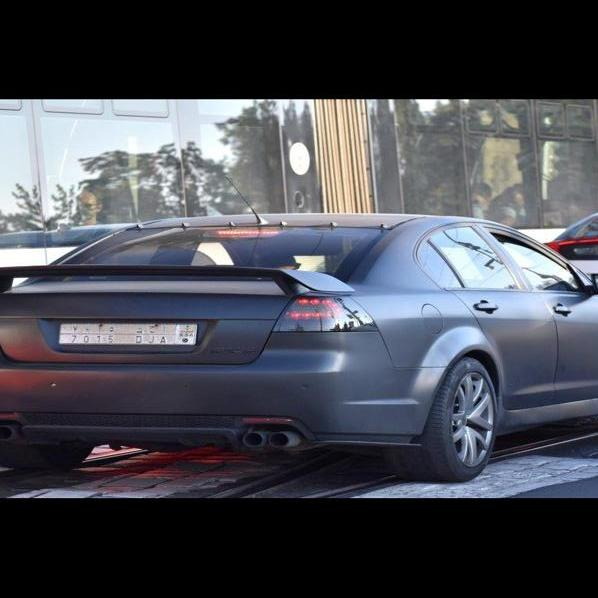numberplate: (57, 320, 198, 348)
